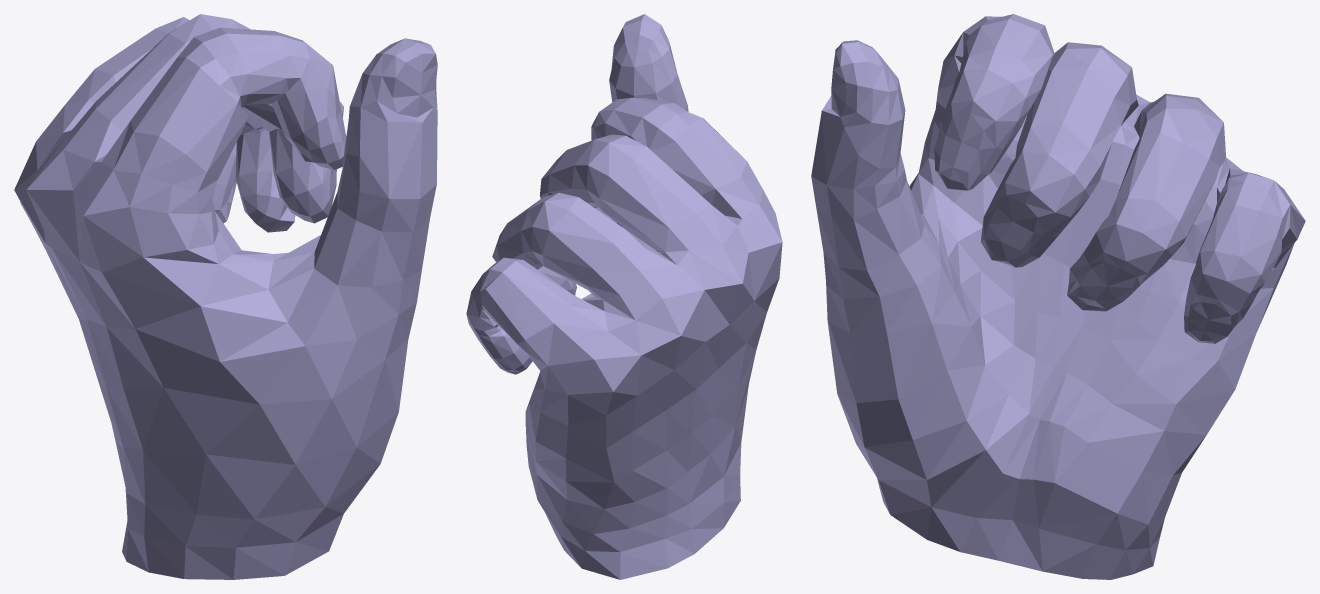
File: frame_0092_source_000092_hand.glb
3 renders of one model, left to right at view 1: azimuth 30°, elevation 25°; view 2: azimuth 150°, elevation 25°; view 3: azimuth 270°, elevation 25°, orthographic. The views are drawn at different scales.
Visible parts, largest first — view 1: world; view 2: world; view 3: world.
Boxes of the visible parts, x1,y1,x2,y2 form: world: (14, 14, 437, 579); world: (466, 14, 782, 579); world: (811, 14, 1305, 579).
Size of the model in its own units: 0.0641 by 0.1204 by 0.0956.
